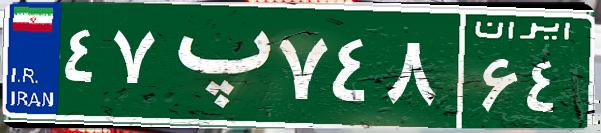4: (330, 28, 385, 110), (57, 26, 110, 107), (525, 38, 570, 115)
6: (475, 38, 525, 113)
7: (273, 28, 330, 110), (110, 28, 158, 105)
8: (385, 28, 445, 110)
پ: (158, 15, 273, 115)
